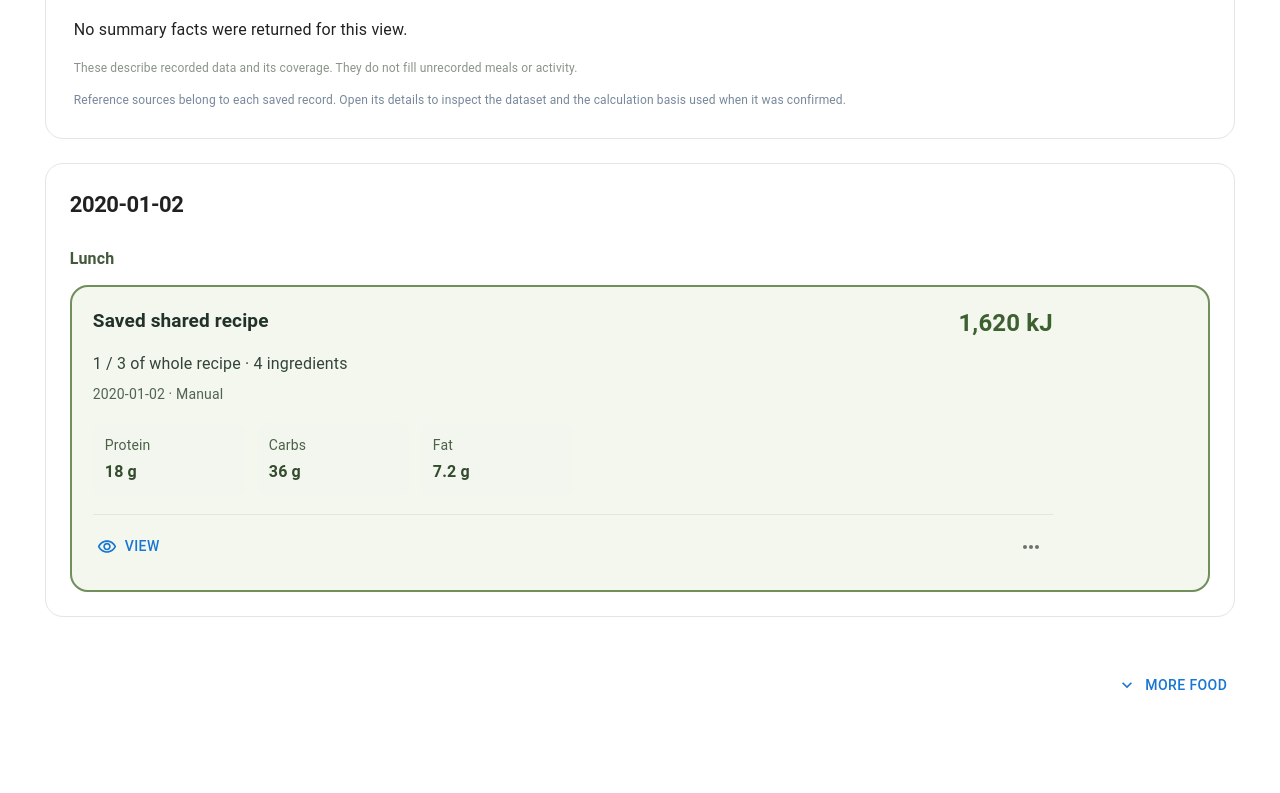
locates every saved typed root at a past date and keeps whole dishes across root pages
(page scrolled)
Click the button "More food". click: (1174, 685)
box: [1113,666,1235,703]
(page scrolled)
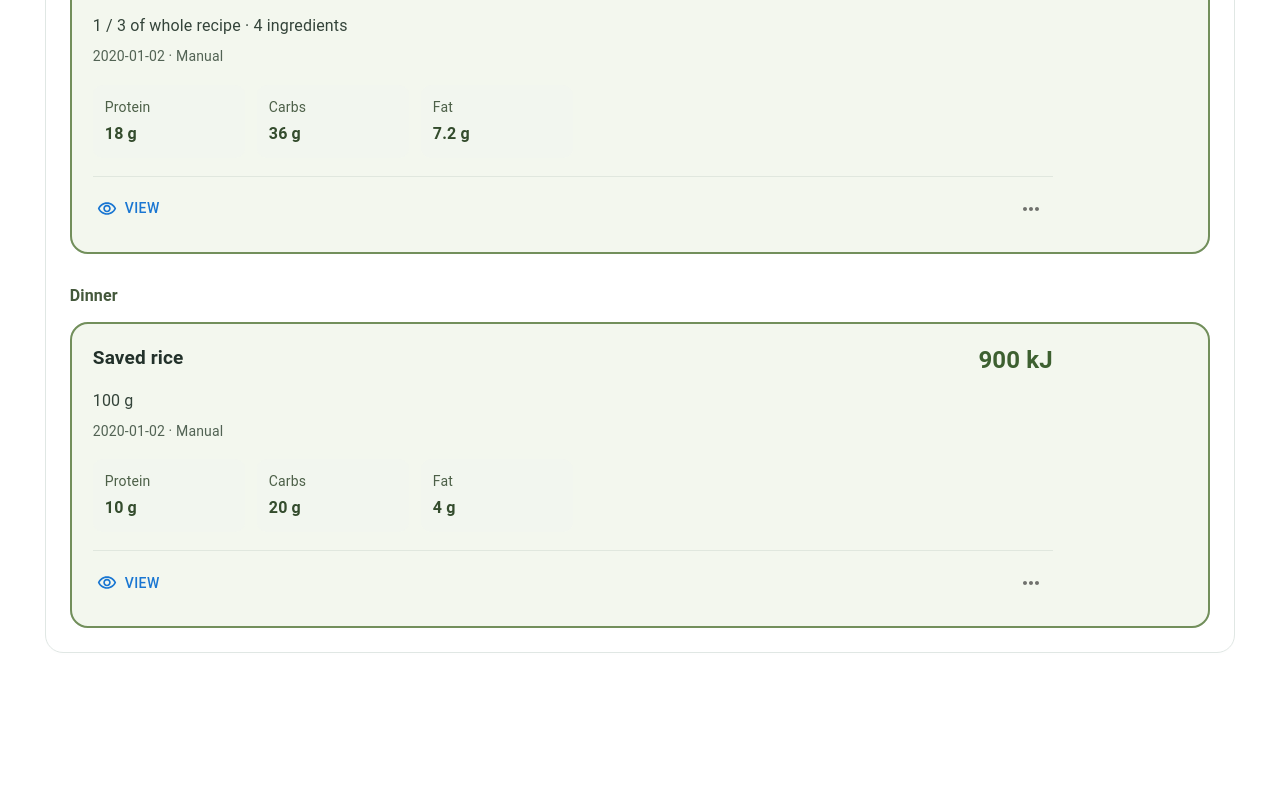
Result: the button "More food" is gone
